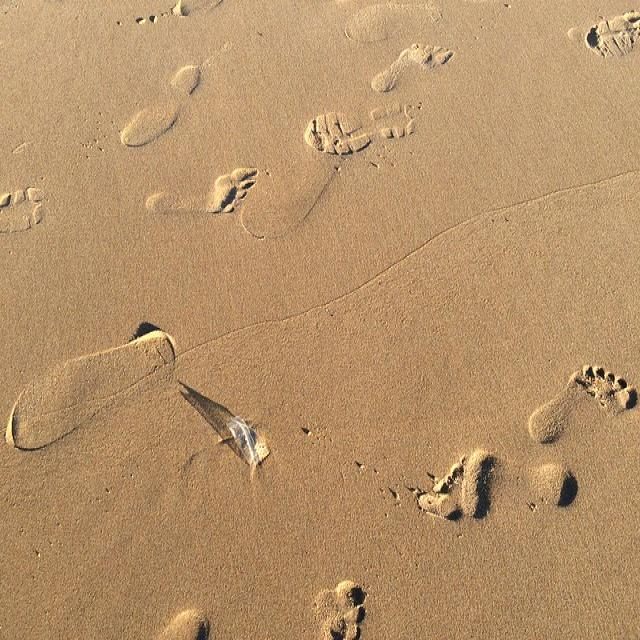Recycle: (222, 412, 258, 468)
